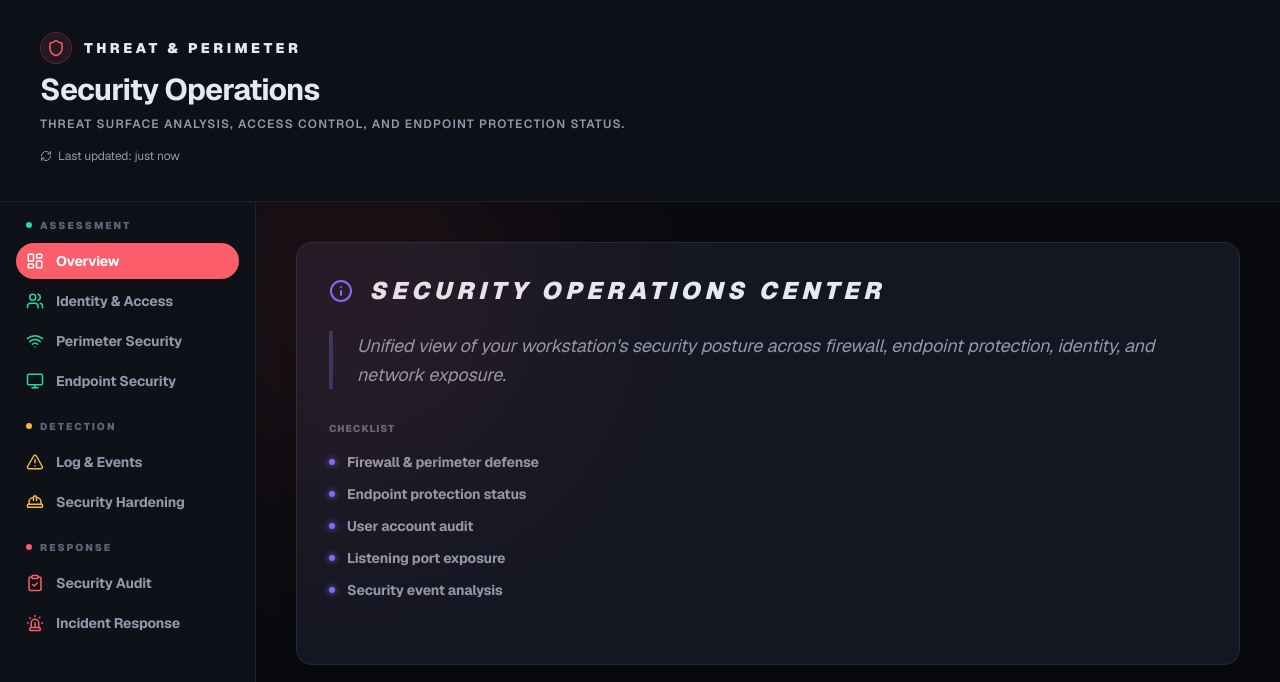
Test: SecOps Page › navigates to Log & Events sidebar category
Click the button "Log & Events".
click(128, 462)  # box [16,444,239,480]
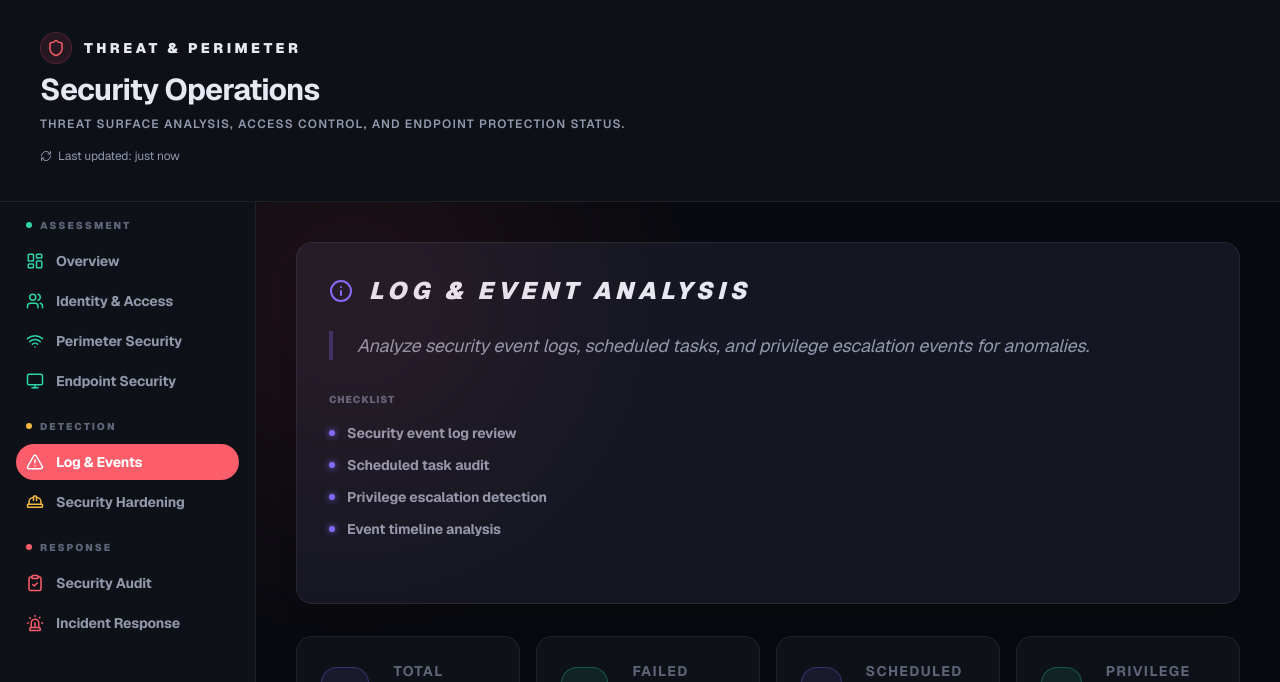
Check: the heading "Log & Event Analysis" is shown, box [369,274,751,306]
